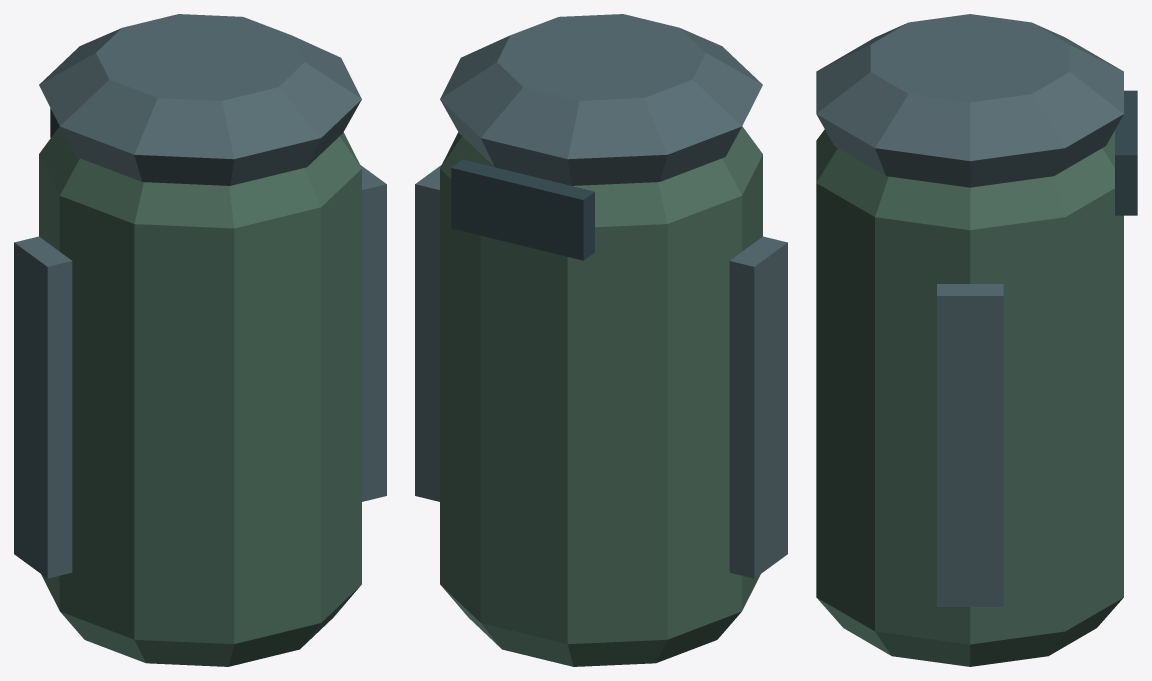
File: KOL_HBR_PROP_09.fbx
3 views of the same model, side by side, from view 1: azimuth 30°, elevation 25°; view 2: azimuth 150°, elevation 25°; view 3: azimuth 270°, elevation 25° (orthographic).
Parts seen in each view (by area): view 1: KOL_HBR_PROP_09__Model__Green, KOL_HBR_PROP_09__Model__DarkSteel; view 2: KOL_HBR_PROP_09__Model__Green, KOL_HBR_PROP_09__Model__DarkSteel, KOL_HBR_PROP_09__Model__Window; view 3: KOL_HBR_PROP_09__Model__Green, KOL_HBR_PROP_09__Model__DarkSteel, KOL_HBR_PROP_09__Model__Window.
Part boxes in pixels (x1,y1,x2,y2): KOL_HBR_PROP_09__Model__Green: (39, 126, 361, 666); KOL_HBR_PROP_09__Model__DarkSteel: (14, 14, 386, 578); KOL_HBR_PROP_09__Model__Green: (440, 126, 762, 666); KOL_HBR_PROP_09__Model__DarkSteel: (415, 14, 787, 578); KOL_HBR_PROP_09__Model__Window: (451, 159, 594, 260); KOL_HBR_PROP_09__Model__Green: (816, 129, 1123, 666); KOL_HBR_PROP_09__Model__DarkSteel: (816, 14, 1123, 606); KOL_HBR_PROP_09__Model__Window: (1115, 90, 1137, 215).
Size of the model in its own units: 2.05 by 3.2 by 1.69.
